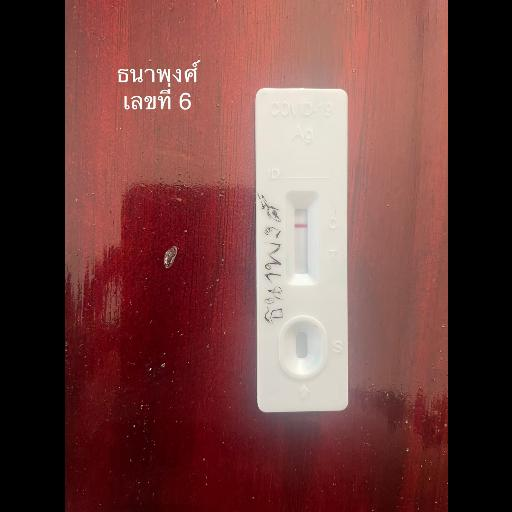Neg: (252, 88, 348, 410)
